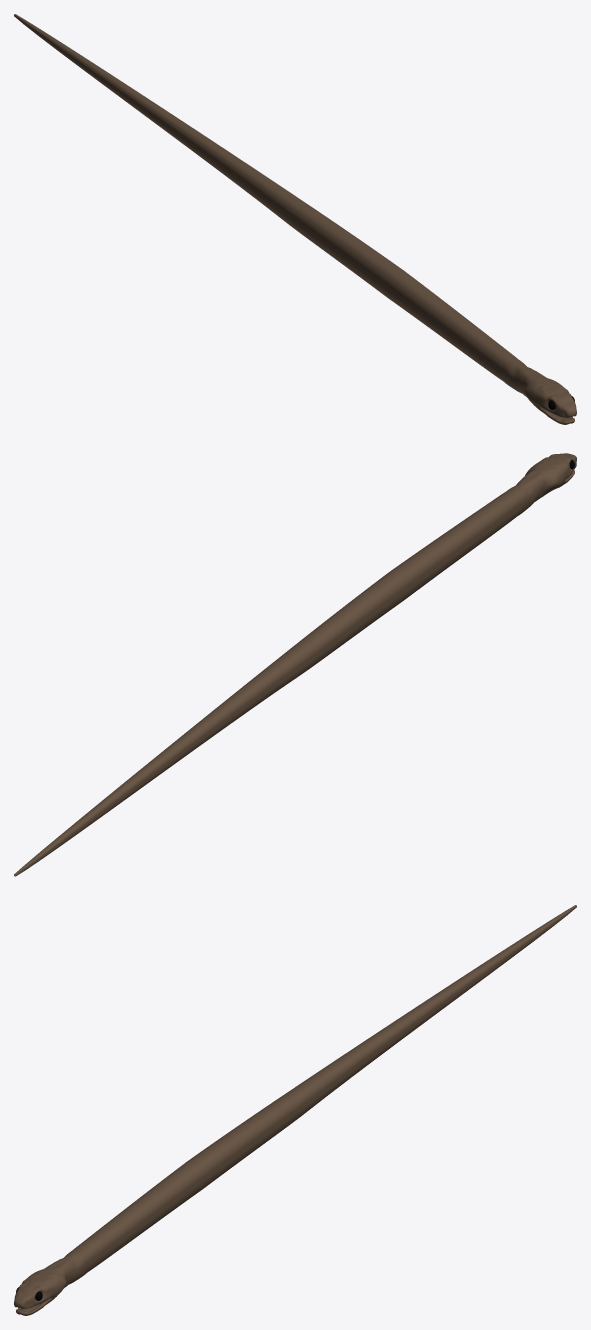
File: Snake.glb
3 renders of one model, top to bottom at view 1: azimuth 30°, elevation 25°; view 2: azimuth 150°, elevation 25°; view 3: azimuth 330°, elevation 25°, orthographic.
Parts seen in each view (by area): view 1: Body, Snake Head; view 2: Body, Snake Head; view 3: Body, Snake Head.
Boxes of the visible parts, left/top/right/bottom form: Body: left=14, top=14, right=514, bottom=379; Snake Head: left=499, top=356, right=576, bottom=424; Body: left=14, top=493, right=518, bottom=876; Snake Head: left=503, top=453, right=576, bottom=516; Body: left=76, top=905, right=576, bottom=1270; Snake Head: left=14, top=1247, right=91, bottom=1315.
Bounding box in the file's own units: 0.4308 × 0.385 × 13.46.
